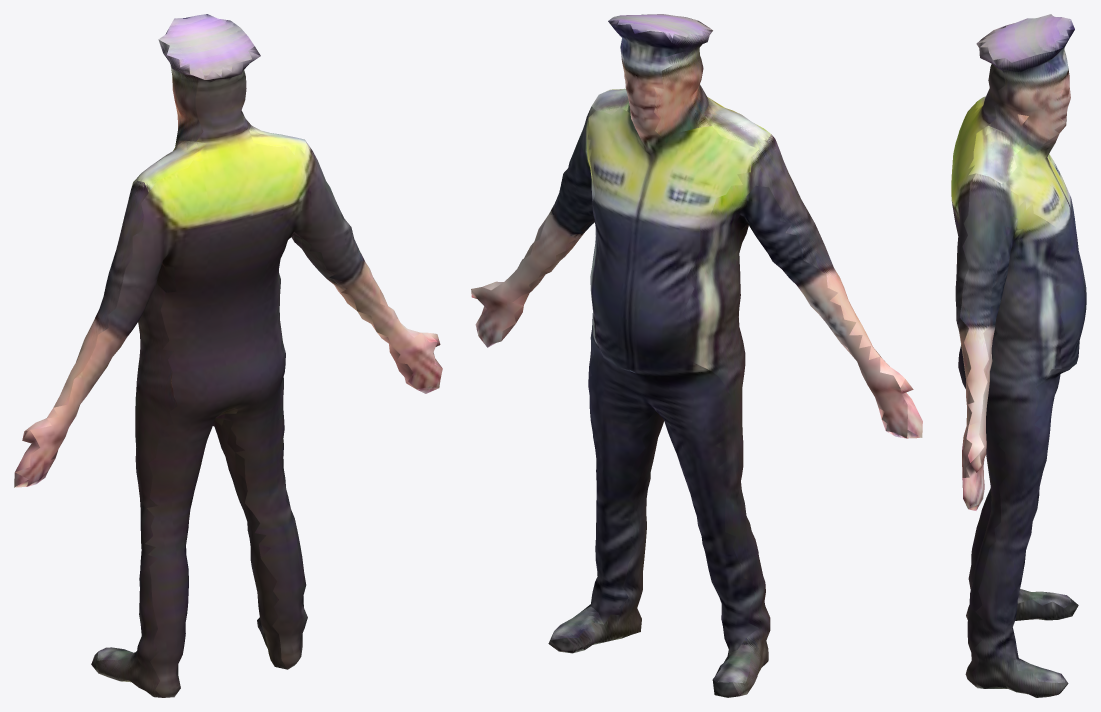
3 renders of one model, left to right at view 1: azimuth 30°, elevation 25°; view 2: azimuth 150°, elevation 25°; view 3: azimuth 270°, elevation 25°, orthographic. The views are drawn at different scales.
Visible parts, largest first — view 1: world; view 2: world; view 3: world.
Boxes of the visible parts, <box> form: world: <box>14,14,442,697</box>; world: <box>471,14,922,697</box>; world: <box>951,14,1086,697</box>.
Bounding box in the file's own units: 0.7156 × 1 × 0.1944.
Materials: 1 (1 with a texture image).
